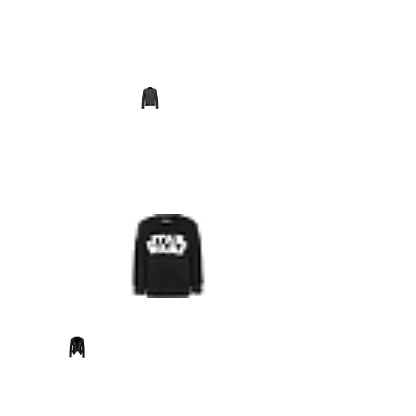Coat: (66, 336, 88, 358), (139, 87, 161, 109)
Pullover: (126, 214, 210, 298)
